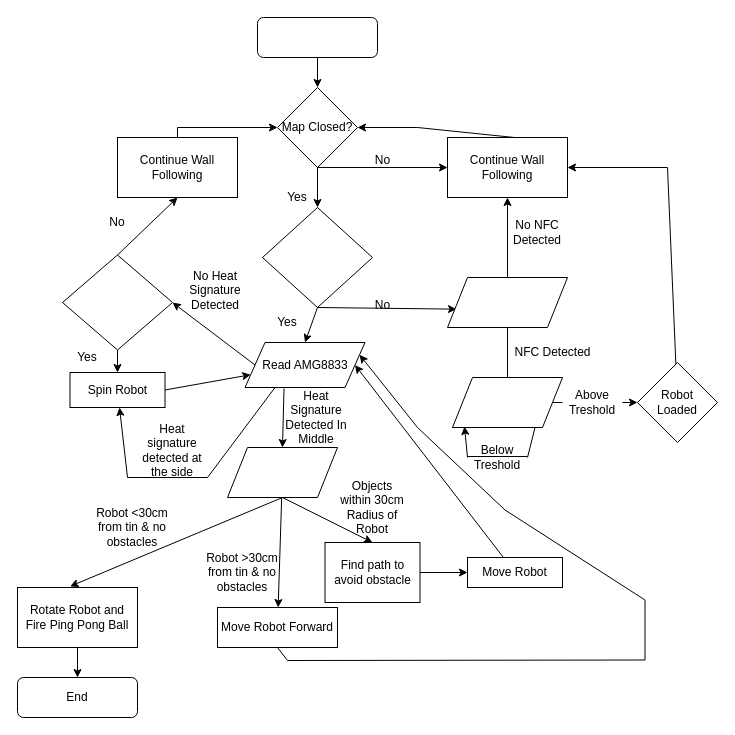
This 735x735 diagram has some shape labels left out. Here are the shapes that lost their labels. From the top down, the box of each, then its label:
(256, 16, 378, 58): Start
(262, 206, 372, 308): Has Payload been Loaded
(62, 254, 172, 350): Has target been spotted before
(446, 276, 568, 328): Read NFC Tag
(452, 376, 562, 428): Read LDR
(226, 446, 338, 498): Read LiDAR
